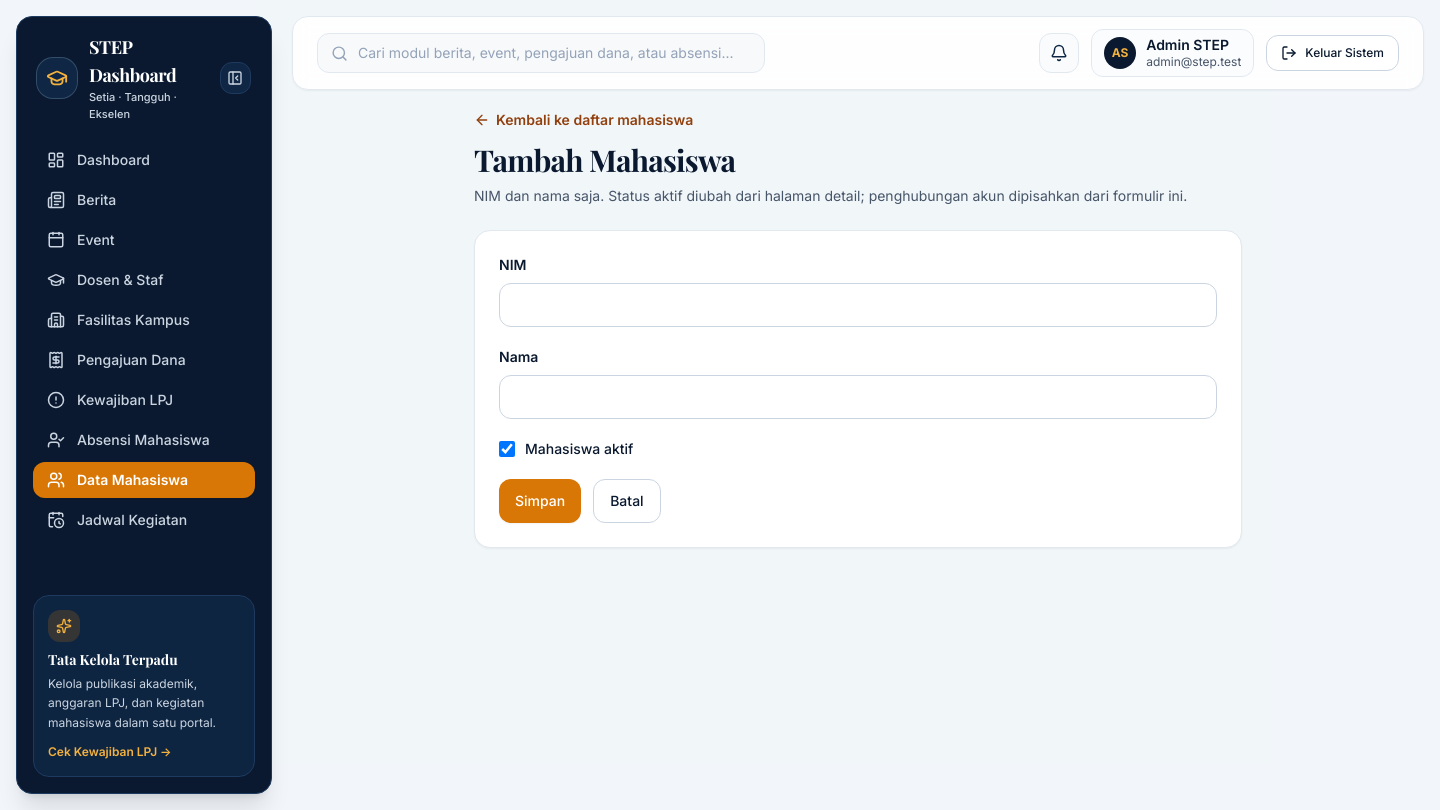
Klien mahasiswa & jadwal kegiatan (client-only, transport disimulasikan) › form tambah mahasiswa mengirim body wire tanpa field karangan lalu kembali ke daftar
In the field labelled "NIM": (858, 304) [499,282,1217,326], type "syn-api02a-010"
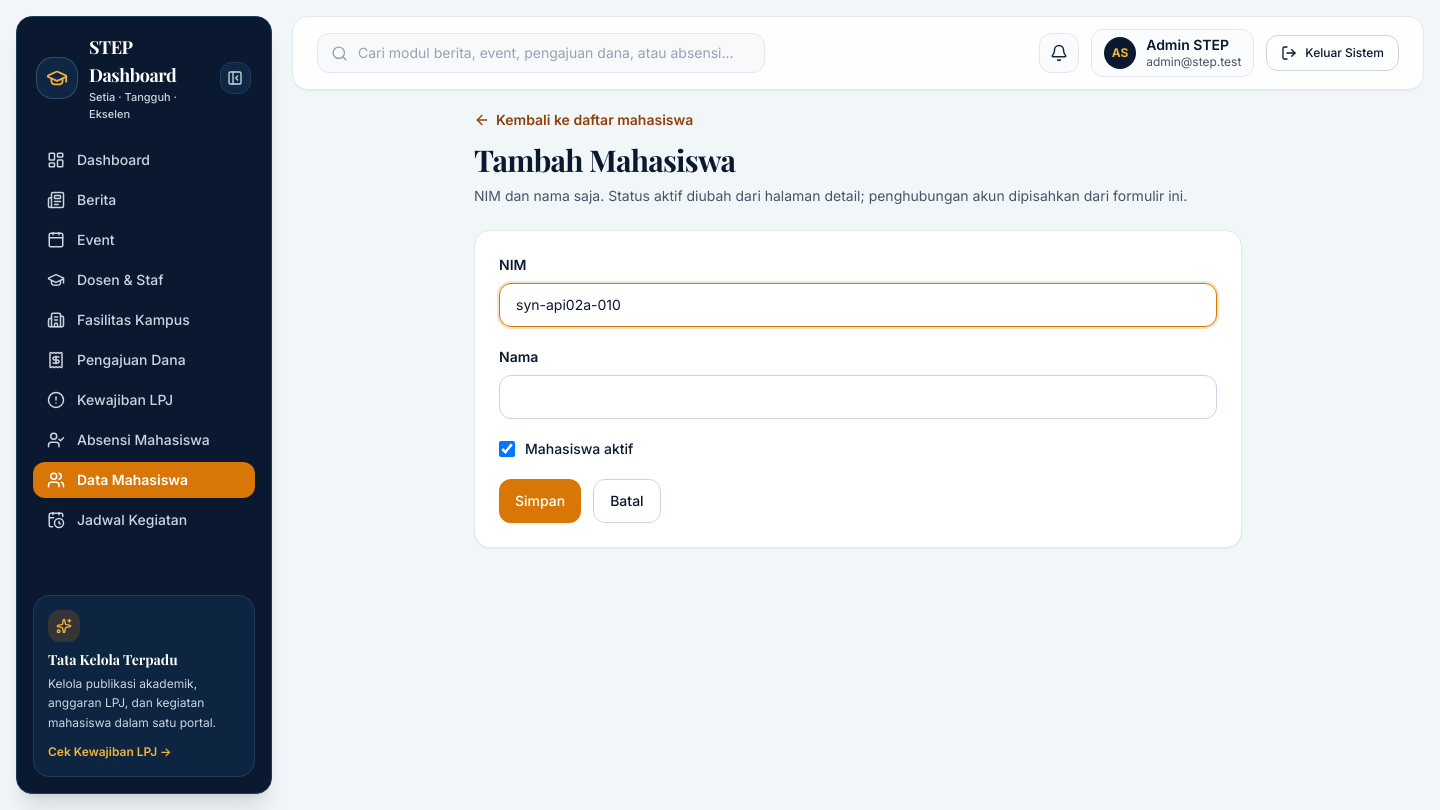
In the field labelled "Nama": (858, 396) [499,374,1217,418], type "Nama Baru"
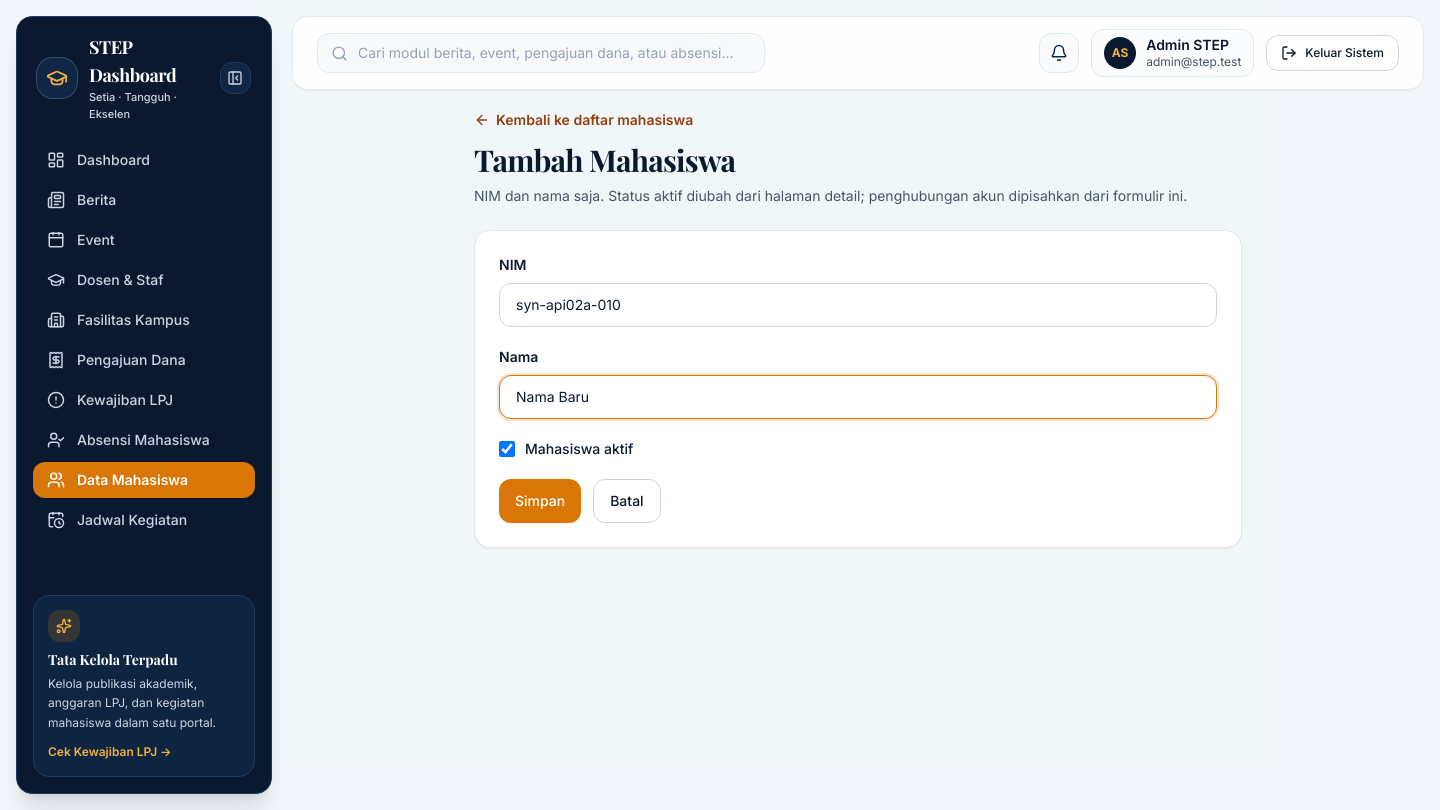
Click the button "Simpan": (540, 500) [499,478,581,522]
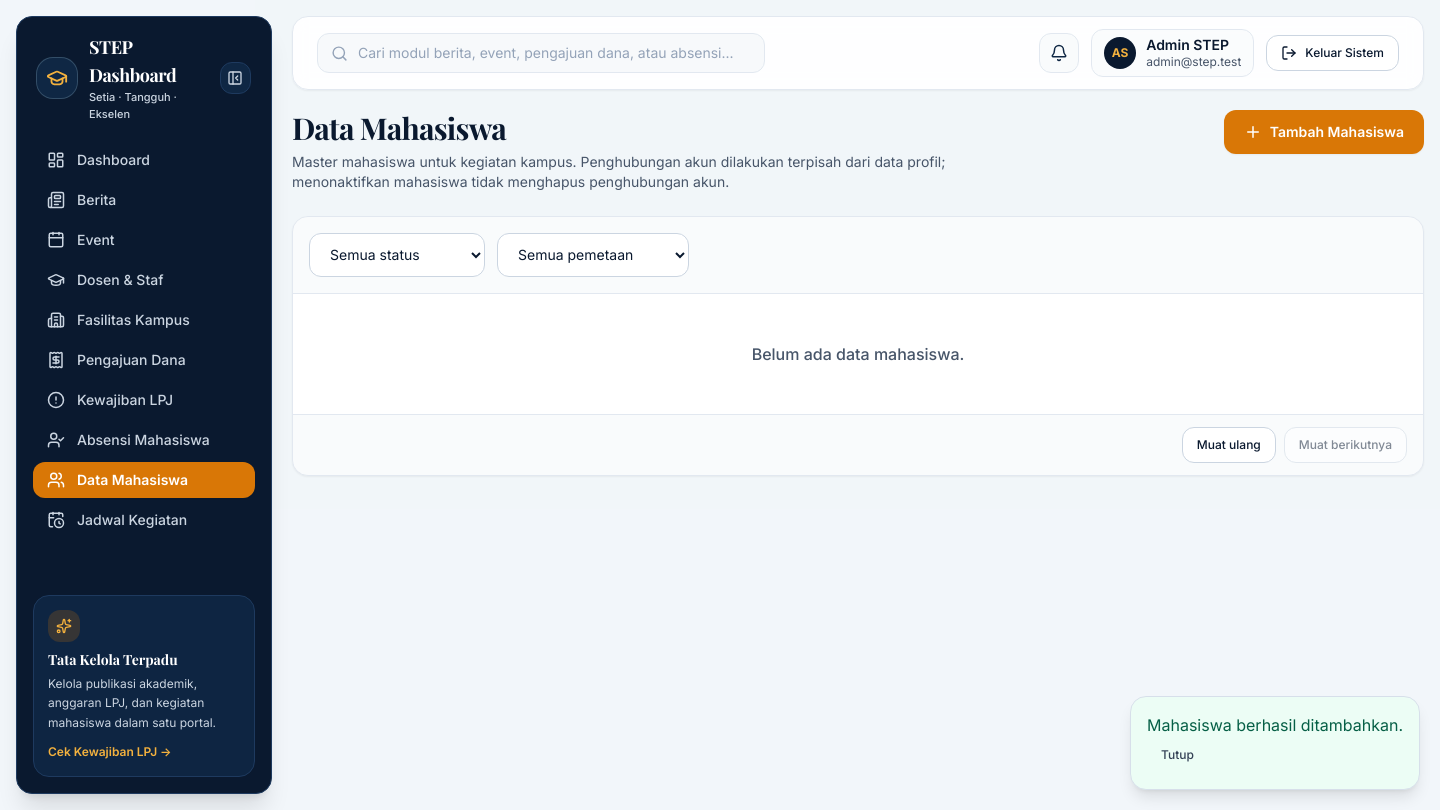
Expected: the heading "Data Mahasiswa" is shown, [292,108,506,148]
